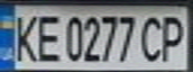0: (60, 11, 84, 63)
2: (81, 11, 103, 63)
7: (115, 11, 142, 63), (100, 11, 121, 63)
C: (136, 11, 169, 64)
E: (33, 11, 63, 63)
K: (6, 10, 42, 63)
P: (157, 11, 190, 63)
